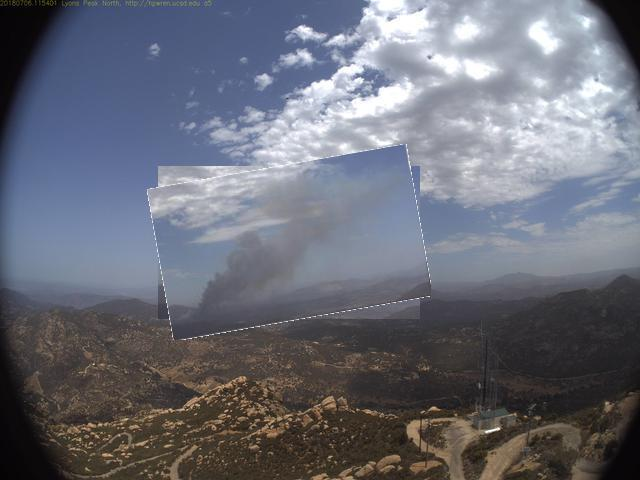smoke: (154, 156, 428, 332)
